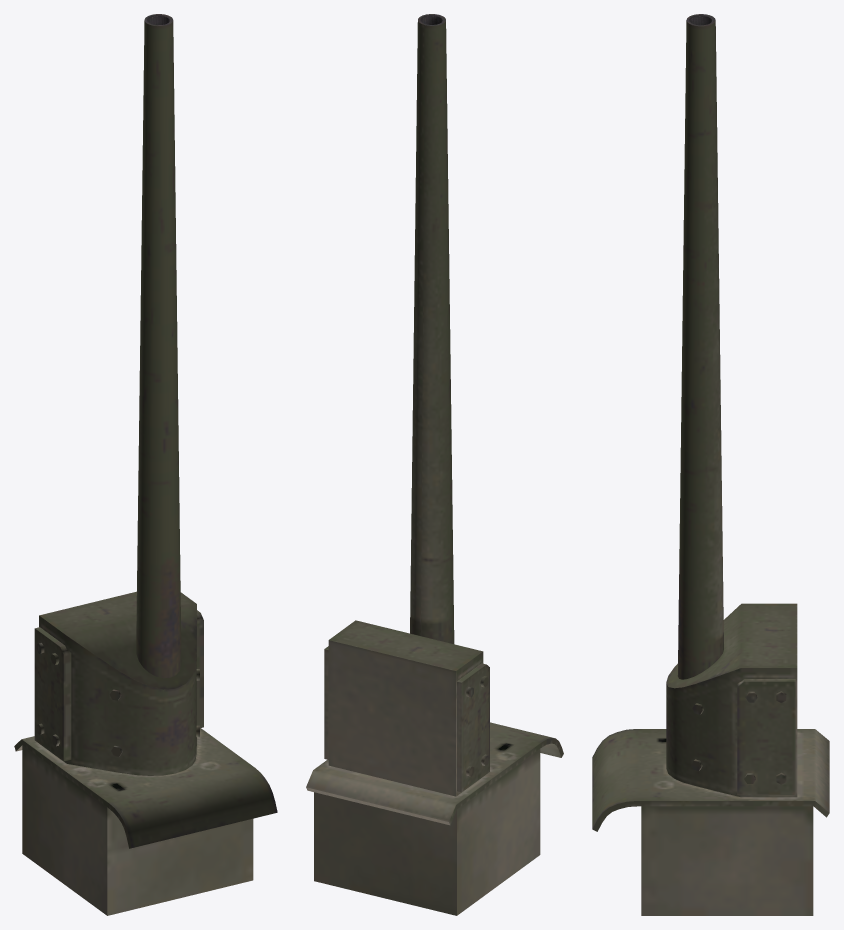
Rendered from Gun_09.glb.
3 renders of one model, left to right at view 1: azimuth 30°, elevation 25°; view 2: azimuth 150°, elevation 25°; view 3: azimuth 270°, elevation 25°, orthographic. The views are drawn at different scales.
Visible parts, largest first — view 1: set_0_group_0; view 2: set_0_group_0; view 3: set_0_group_0.
Boxes of the visible parts, x1,y1,x2,y2 form: set_0_group_0: [14, 14, 277, 915]; set_0_group_0: [306, 14, 563, 915]; set_0_group_0: [592, 14, 829, 915].
Size of the model in its own units: 0.4379 by 2.43 by 0.6053.
Materials: 1 (1 with a texture image).
